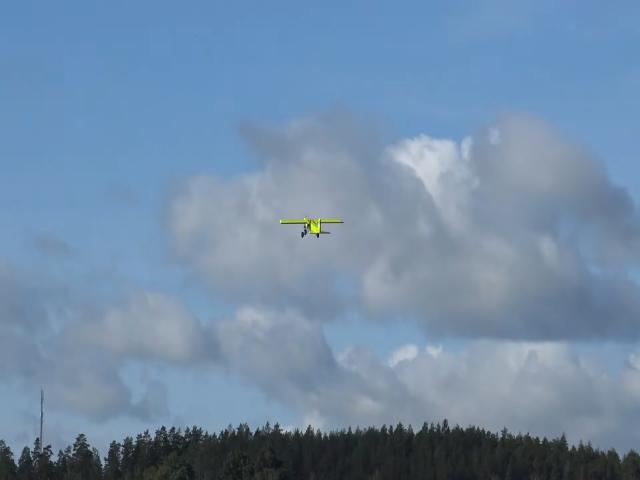plane: (280, 217, 344, 238)
